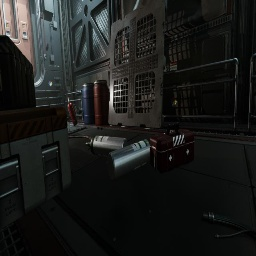0: (108, 139, 150, 181), (85, 136, 128, 157), (67, 122, 70, 132)
FireExtinguisher ]: (68, 97, 78, 126)
FirstAidBox ,: (150, 122, 194, 174)
